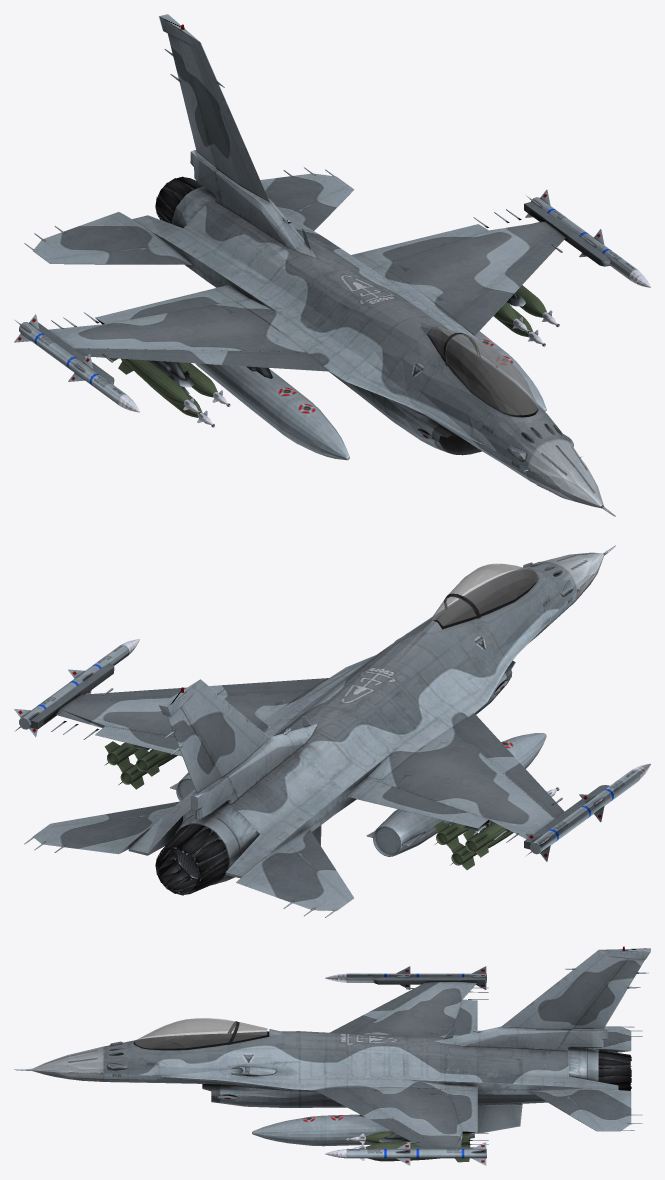
File: Combat_Jet.FBX
3 views of the same model, one above another, from view 1: azimuth 30°, elevation 25°; view 2: azimuth 150°, elevation 25°; view 3: azimuth 270°, elevation 25° (orthographic). The views are drawn at different scales.
Parts seen in each view (by area): view 1: Combat_Jet; view 2: Combat_Jet; view 3: Combat_Jet.
Boxes of the visible parts, bbox=[...] form: Combat_Jet: bbox=[14, 14, 650, 516]; Combat_Jet: bbox=[14, 545, 650, 917]; Combat_Jet: bbox=[14, 946, 650, 1165].
Size of the model in its own units: 14.42 by 6.44 by 21.2.
